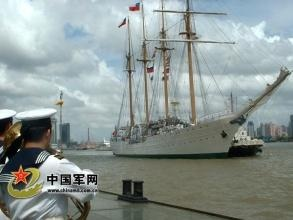fanchuan: (107, 1, 288, 156)
person: (2, 105, 100, 220)
